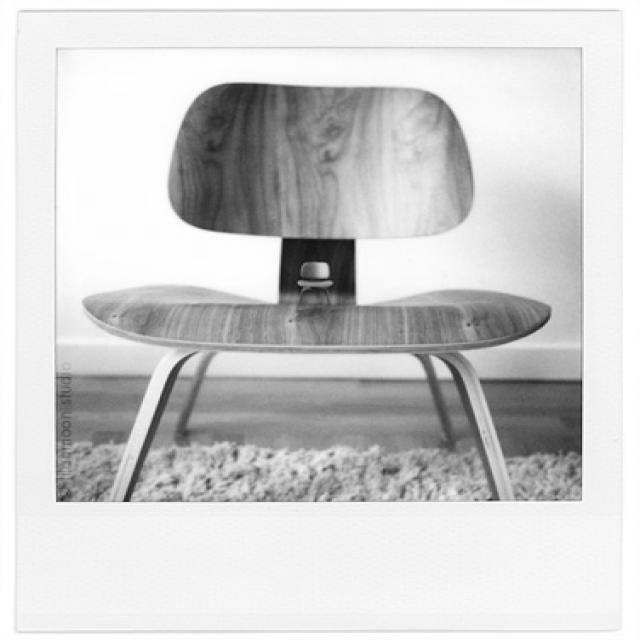chair: (80, 81, 554, 500)
